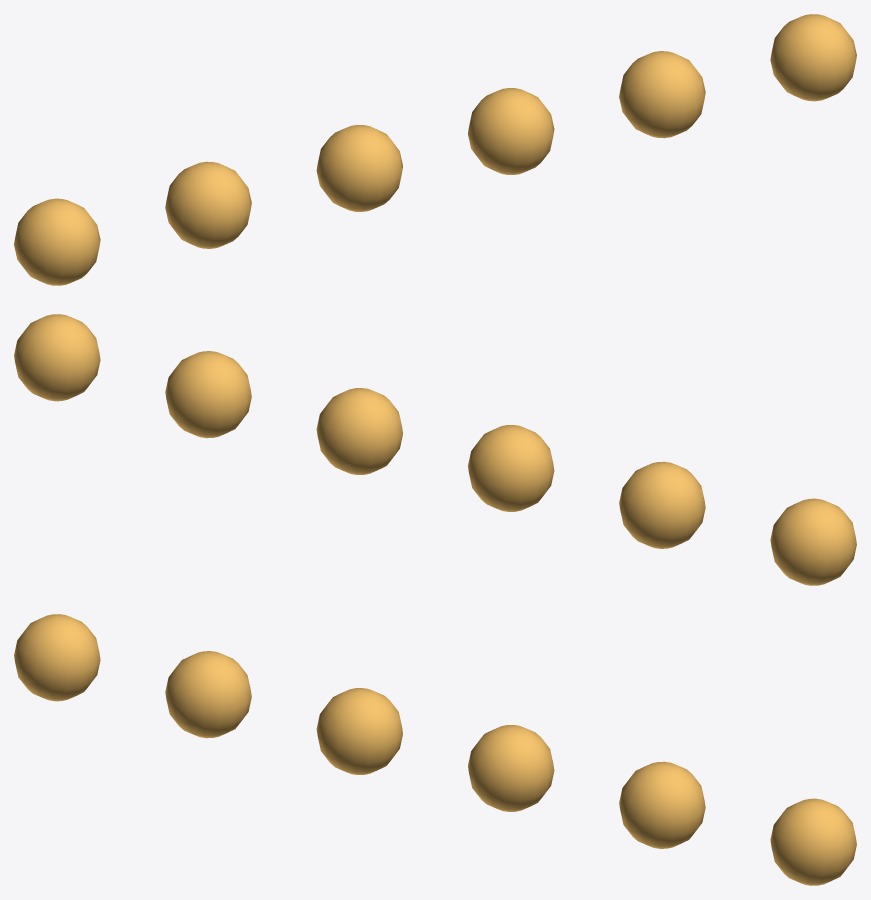
Rendered from OU_D_Ball_01_D.fbx.
3 renders of one model, top to bottom at view 1: azimuth 30°, elevation 25°; view 2: azimuth 150°, elevation 25°; view 3: azimuth 330°, elevation 25°, orthographic.
Visible parts, largest first — view 1: OU_D_Ball_01_D.004, OU_D_Ball_01_D.005, OU_D_Ball_01_D, OU_D_Ball_01_D.003, OU_D_Ball_01_D.001, OU_D_Ball_01_D.002; view 2: OU_D_Ball_01_D.004, OU_D_Ball_01_D.005, OU_D_Ball_01_D, OU_D_Ball_01_D.003, OU_D_Ball_01_D.001, OU_D_Ball_01_D.002; view 3: OU_D_Ball_01_D.004, OU_D_Ball_01_D.005, OU_D_Ball_01_D, OU_D_Ball_01_D.003, OU_D_Ball_01_D.001, OU_D_Ball_01_D.002.
Part boxes in pixels (x1,y1,x2,y2): OU_D_Ball_01_D.004: (770, 14, 856, 101); OU_D_Ball_01_D.005: (14, 198, 100, 285); OU_D_Ball_01_D: (165, 161, 251, 248); OU_D_Ball_01_D.003: (619, 51, 705, 138); OU_D_Ball_01_D.001: (316, 125, 402, 211); OU_D_Ball_01_D.002: (468, 88, 554, 174); OU_D_Ball_01_D.004: (14, 314, 100, 401); OU_D_Ball_01_D.005: (770, 498, 856, 585); OU_D_Ball_01_D: (619, 461, 705, 548); OU_D_Ball_01_D.003: (165, 351, 251, 438); OU_D_Ball_01_D.001: (468, 425, 554, 511); OU_D_Ball_01_D.002: (316, 388, 402, 474); OU_D_Ball_01_D.004: (770, 798, 856, 885); OU_D_Ball_01_D.005: (14, 614, 100, 701); OU_D_Ball_01_D: (165, 651, 251, 738); OU_D_Ball_01_D.003: (619, 761, 705, 848); OU_D_Ball_01_D.001: (316, 688, 402, 774); OU_D_Ball_01_D.002: (468, 725, 554, 811).
Bounding box in the file's own units: 275 × 25 × 25.
